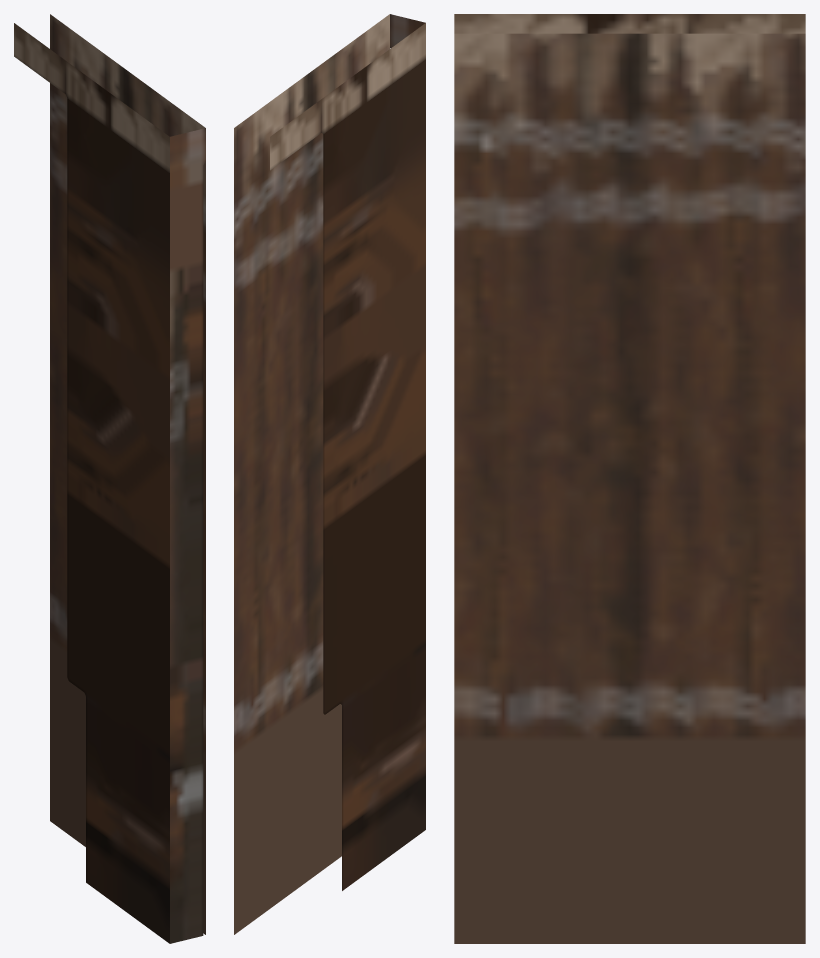
The model's file is section-2.obj.
The picture shows the model from 3 angles, left to right: view 1: azimuth 30°, elevation 25°; view 2: azimuth 150°, elevation 25°; view 3: azimuth 270°, elevation 25°; orthographic projection. The views are drawn at different scales.
Size of the model in its own units: 0.0467 by 1 by 0.3499.
